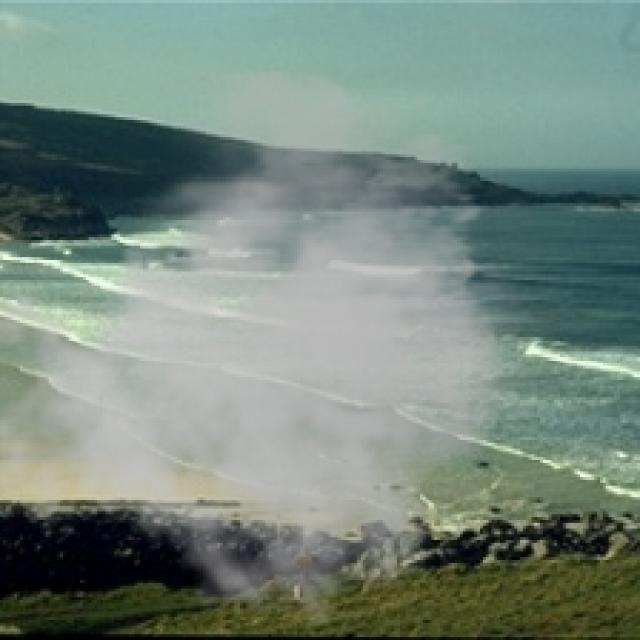Smoke: (0, 69, 557, 632)
